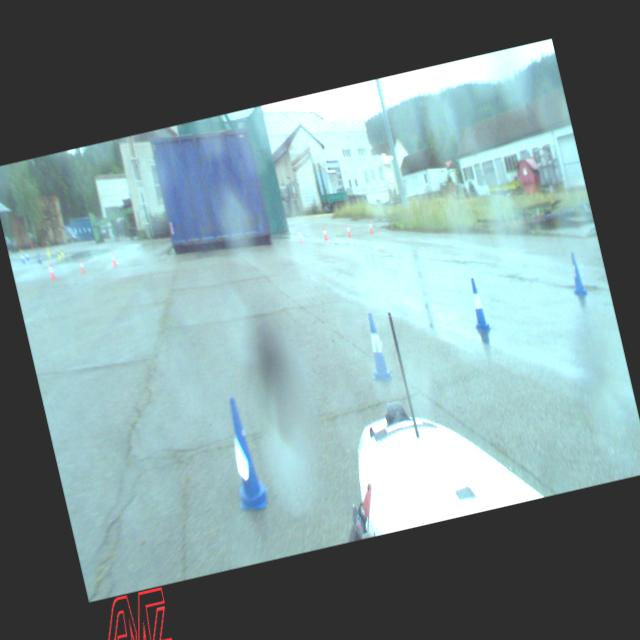blue_cone: (215, 394, 271, 512), (358, 311, 394, 381), (464, 276, 492, 332), (565, 250, 588, 298)
orange_cone: (47, 262, 55, 278), (78, 259, 85, 274), (110, 250, 116, 266), (322, 226, 328, 239), (297, 229, 303, 242), (346, 224, 352, 236), (368, 220, 374, 232)
